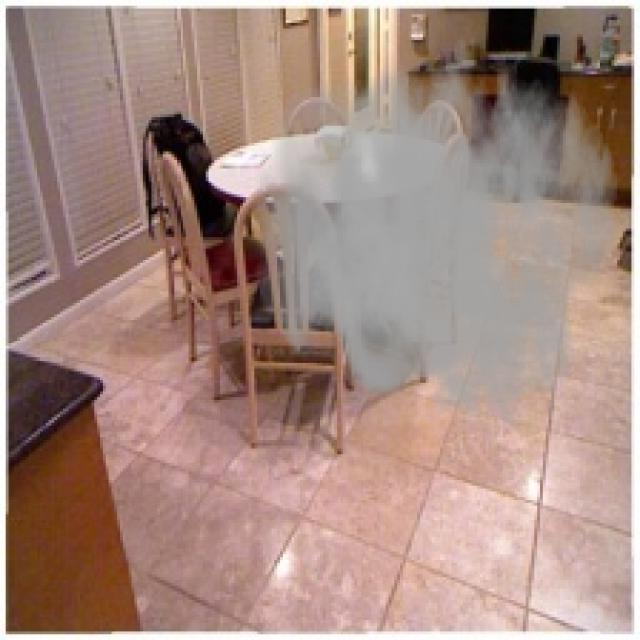Smoke: (251, 14, 620, 432)
